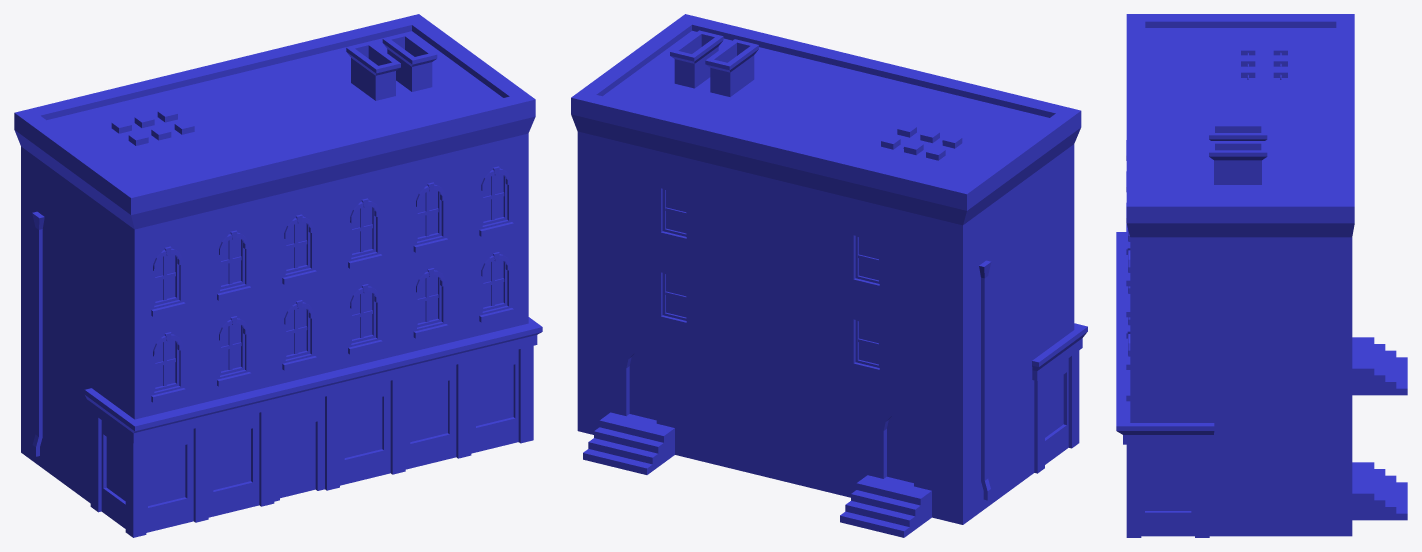
Rendered from House5.fbx.
3 views of the same model, side by side, from view 1: azimuth 30°, elevation 25°; view 2: azimuth 150°, elevation 25°; view 3: azimuth 270°, elevation 25° (orthographic). The views are drawn at different scales.
Parts seen in each view (by area): view 1: House5_LOD0; view 2: House5_LOD0; view 3: House5_LOD0.
Part boxes in pixels (x1,y1,x2,y2): House5_LOD0: (14, 14, 542, 537); House5_LOD0: (571, 14, 1087, 537); House5_LOD0: (1116, 14, 1407, 537).
Size of what is drawn, in the model's own units: 1242 by 1072 by 787.
